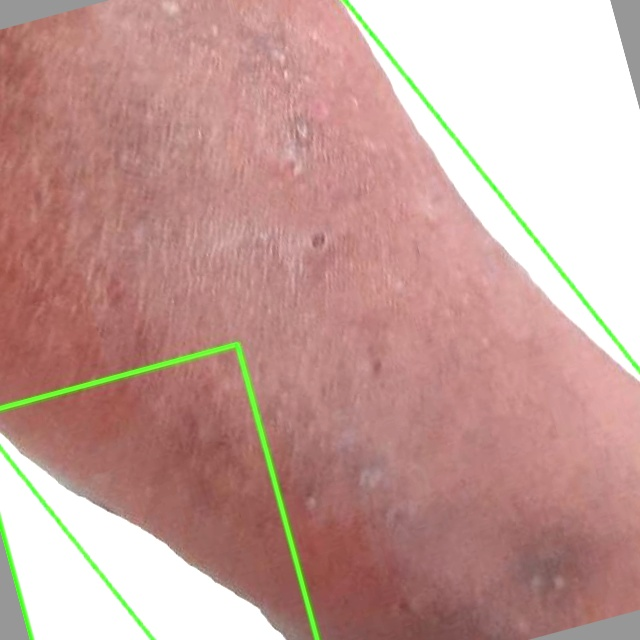Contact Dermatitis: (0, 0, 639, 639), (0, 345, 315, 639)
